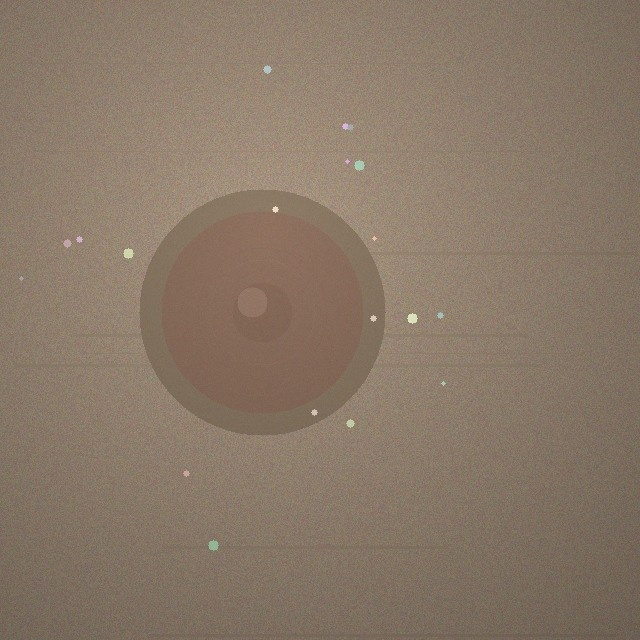overburn: (139, 189, 385, 435)
